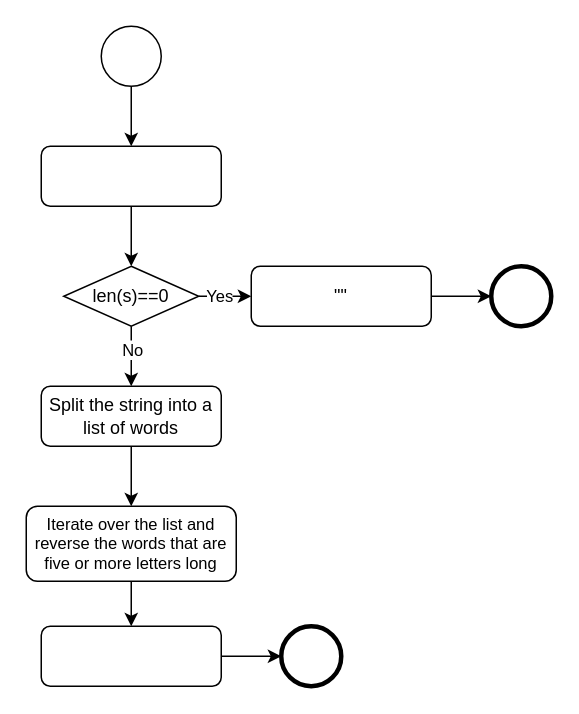
Image size: 579x714. Some labels were removed from this diagram. Each missing label, with the centre of its shape:
Receive a string: pixel 130 175
Return " ".join(l): pixel 130 655
